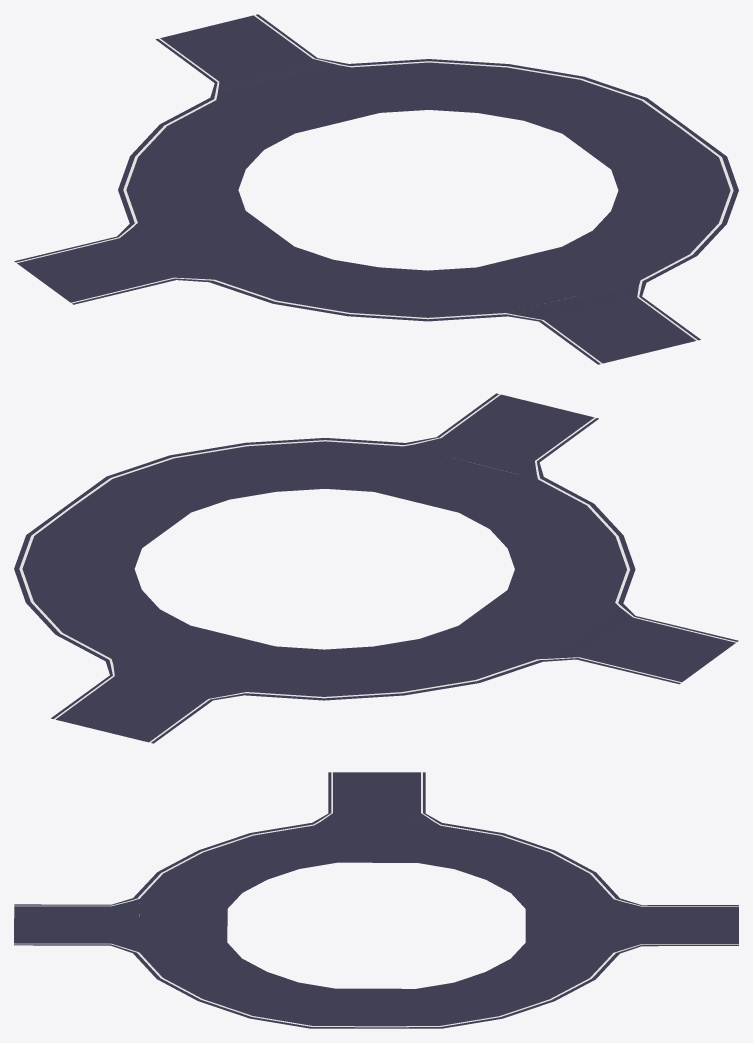
The picture shows the model from 3 angles, top to bottom: view 1: azimuth 30°, elevation 25°; view 2: azimuth 150°, elevation 25°; view 3: azimuth 270°, elevation 25°; orthographic projection. The views are drawn at different scales.
Visible parts, largest first — view 1: Circle_1.006; view 2: Circle_1.006; view 3: Circle_1.006.
Boxes of the visible parts, x1,y1,x2,y2 form: Circle_1.006: [14, 14, 738, 364]; Circle_1.006: [14, 393, 738, 743]; Circle_1.006: [14, 772, 738, 1028].
Size of the model in its own units: 124 by 0.1358 by 148.
Materials: 1 (1 with a texture image).
